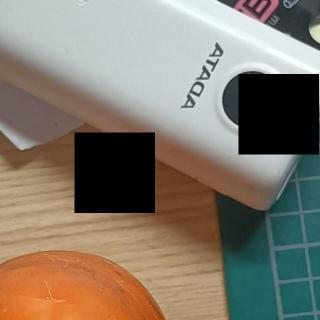carrot: (0, 243, 180, 320)
